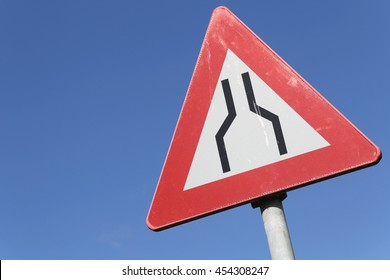narrow-road: (197, 68, 298, 179)
